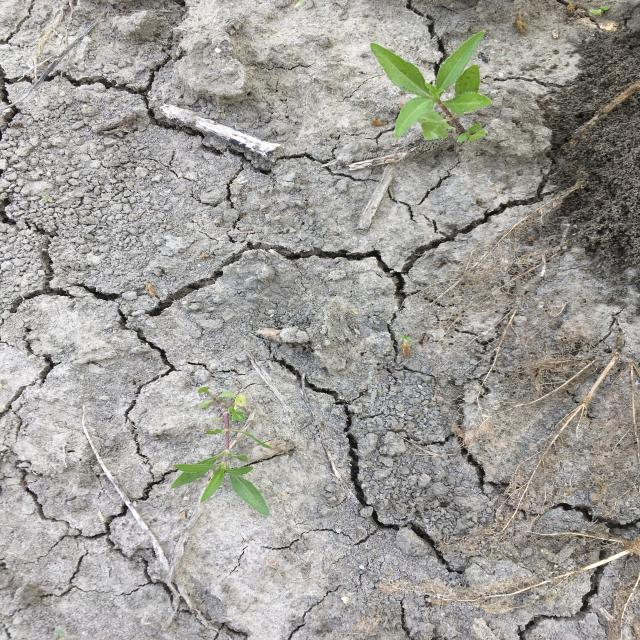Eclipta: (368, 30, 495, 145), (169, 385, 274, 517)
